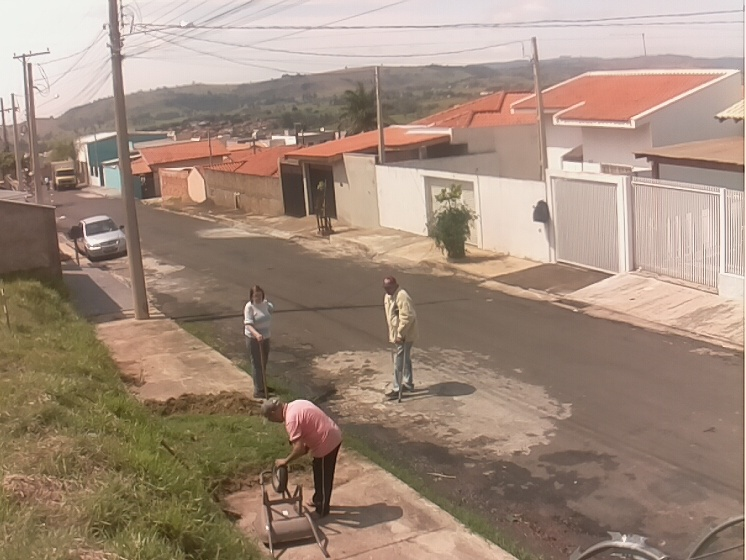person: (261, 399, 343, 518), (382, 275, 416, 400), (242, 285, 275, 399)
